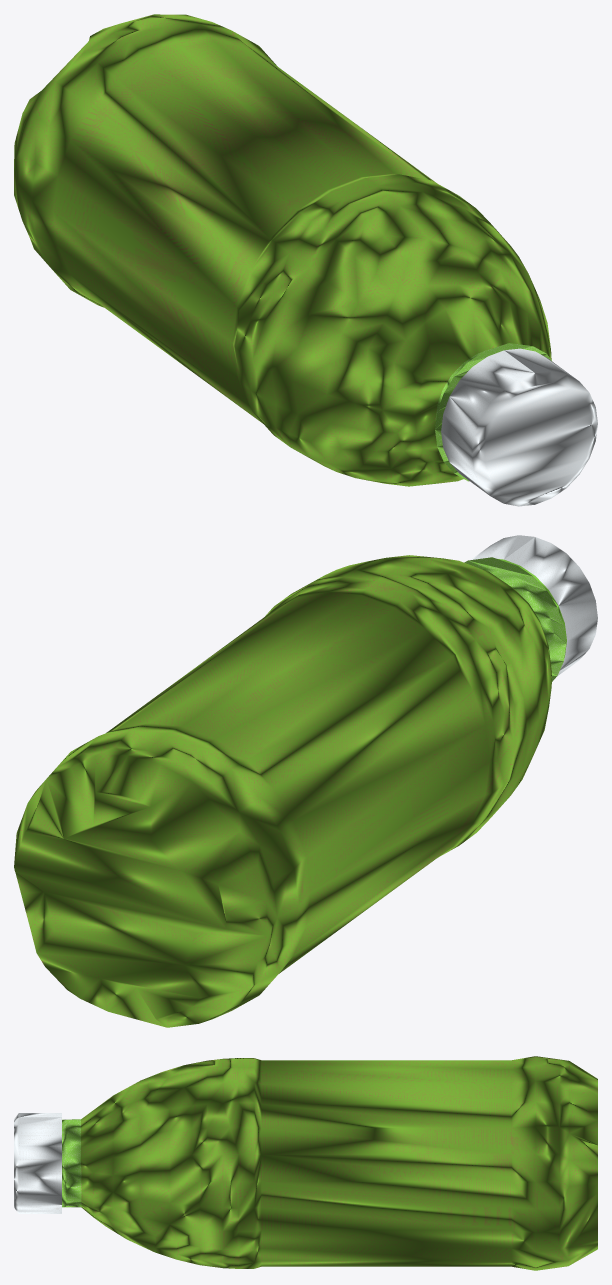
Rendered from model_align.obj.
3 renders of one model, top to bottom at view 1: azimuth 30°, elevation 25°; view 2: azimuth 150°, elevation 25°; view 3: azimuth 270°, elevation 25°, orthographic. The views are drawn at different scales.
Bounding box in the file's own units: 0.0977 × 0.0977 × 0.2647.
